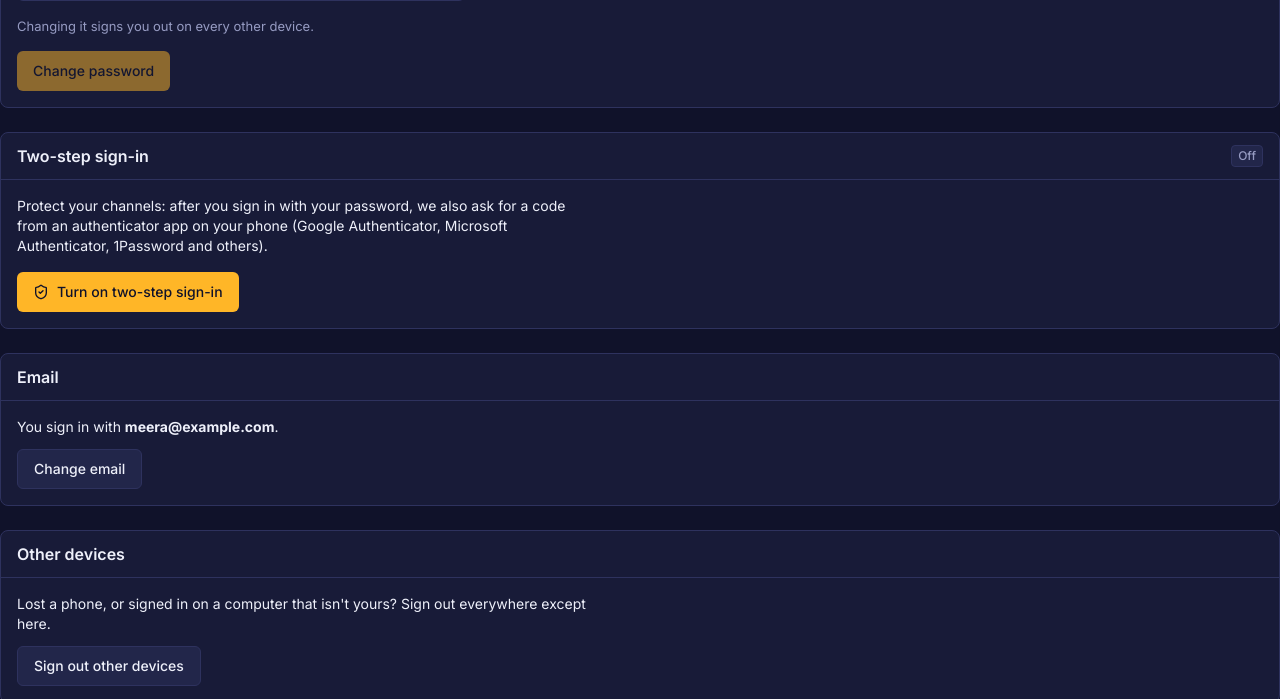
Scenario: change email (UX audit #14) › sends a link to the new address with the password, and can be cancelled
(page scrolled)
Expected: the text "meera@example.com" is shown, [125,418,274,435]
Click the button "Change email".
click(80, 469)  # box [17,449,142,489]
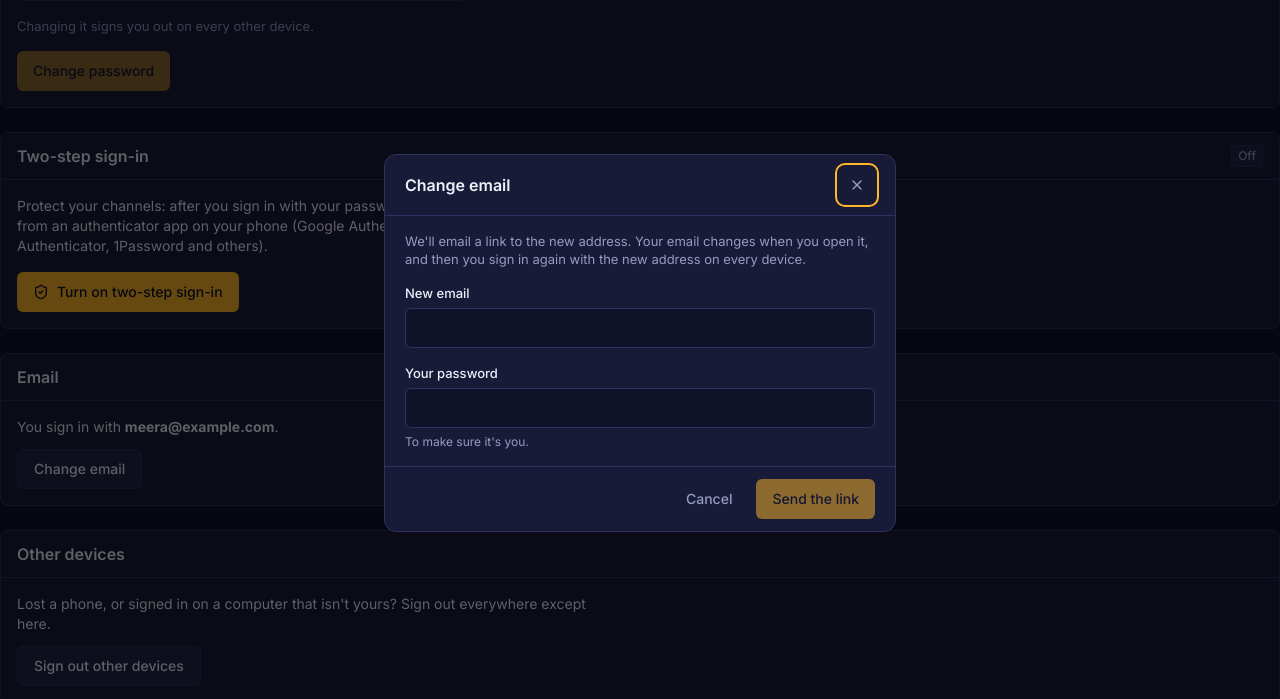
Type "new@example.com" into the field labelled "New email".
click(640, 328); type("new@example.com")  # box [405,308,875,348]
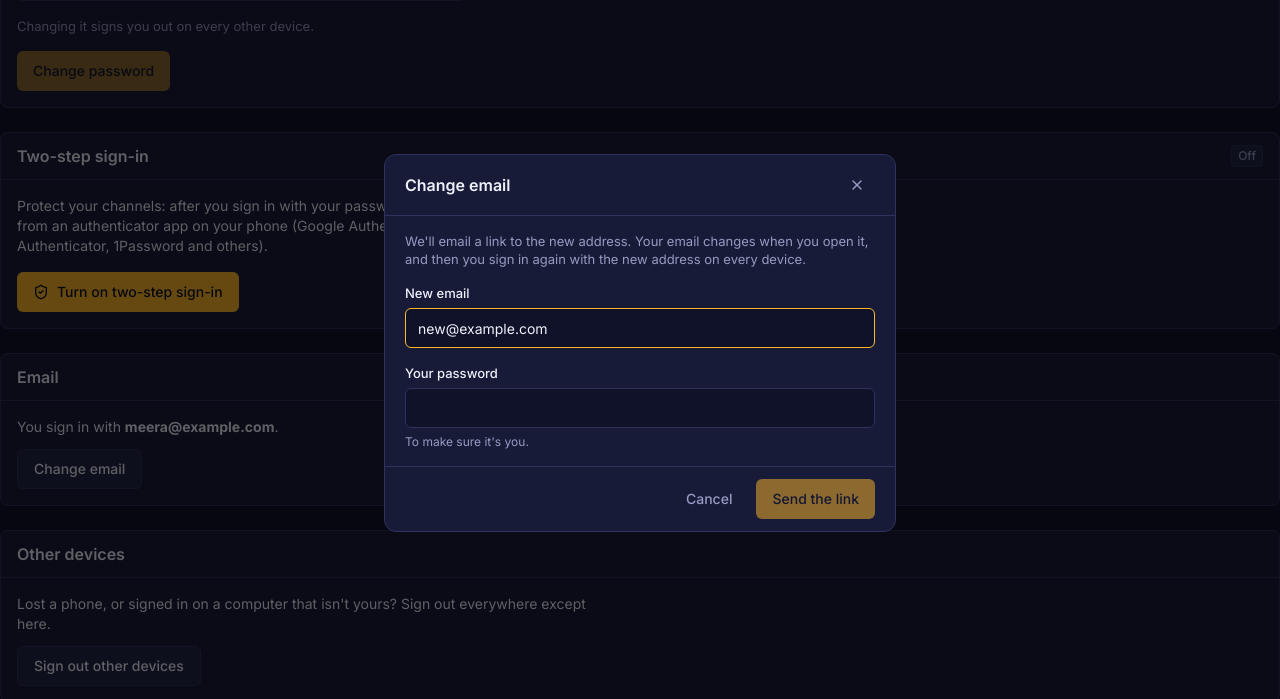
Type "Old-pass1!" into the password field labelled "Your password".
click(640, 408); type("Old-pass1!")  # box [405,388,875,428]
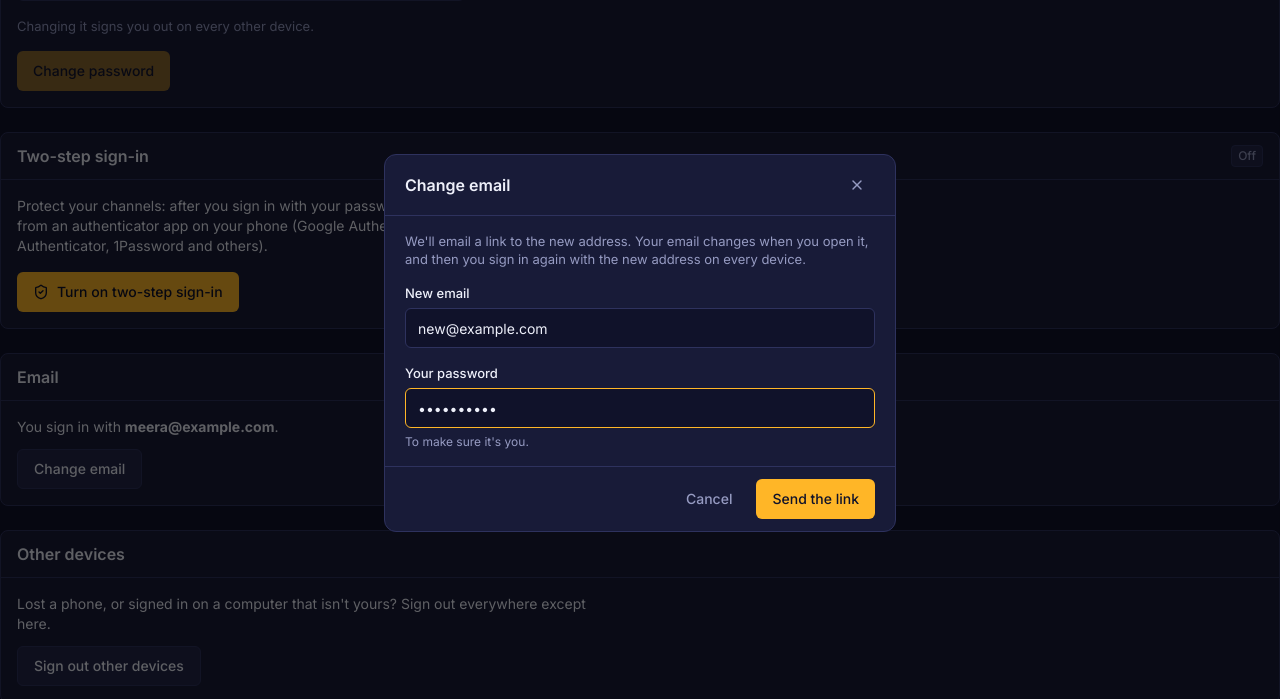
Click the button "Send the link".
click(816, 499)  # box [756,479,875,519]
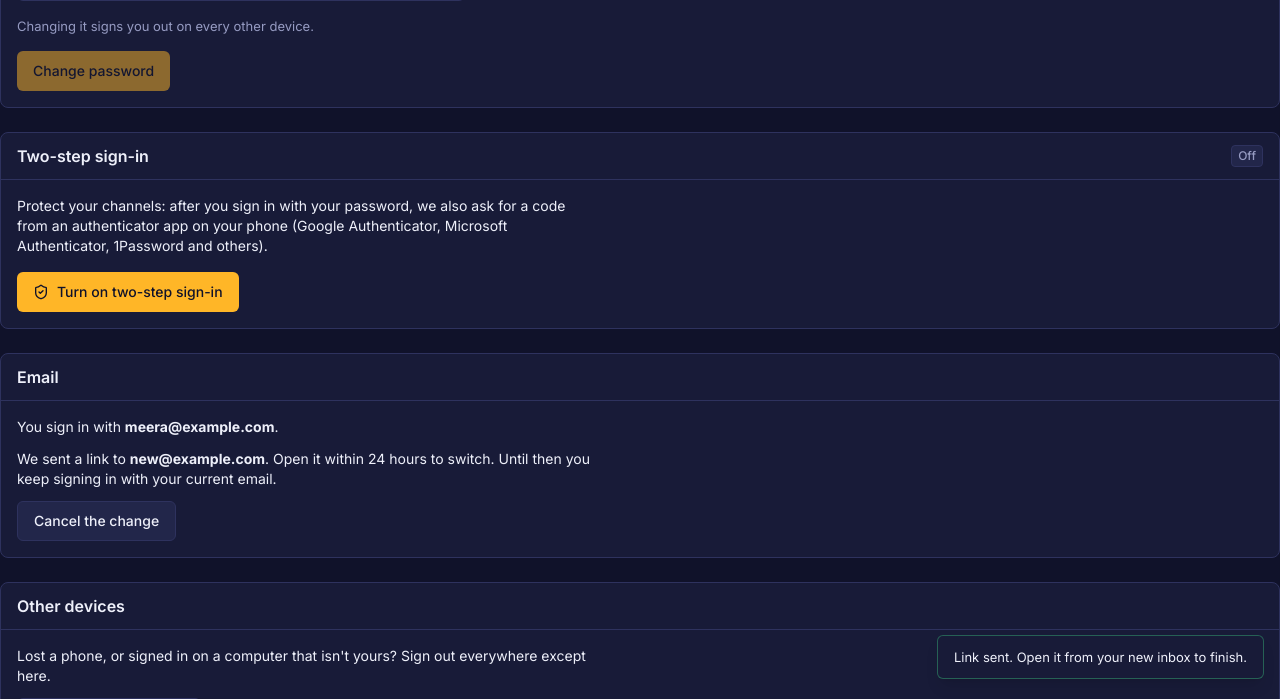
Expected: the text "Open it within 24 hours" is shown, [17,450,590,487]
Click the button "Cancel the change".
click(97, 521)  # box [17,501,176,541]
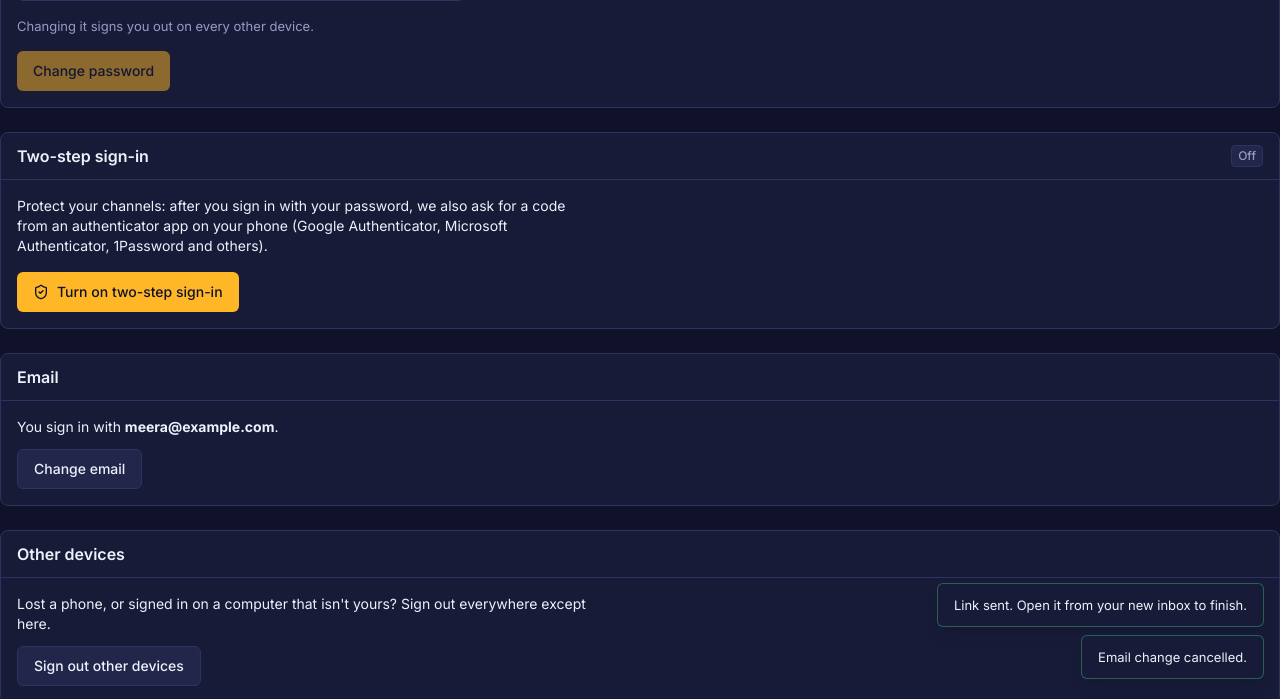
Expected: the button "Change email" is shown, [17,449,142,489]
